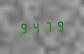four: (30, 20, 41, 34)
nine: (18, 21, 29, 34), (54, 19, 65, 32)
seven: (42, 19, 53, 33)
